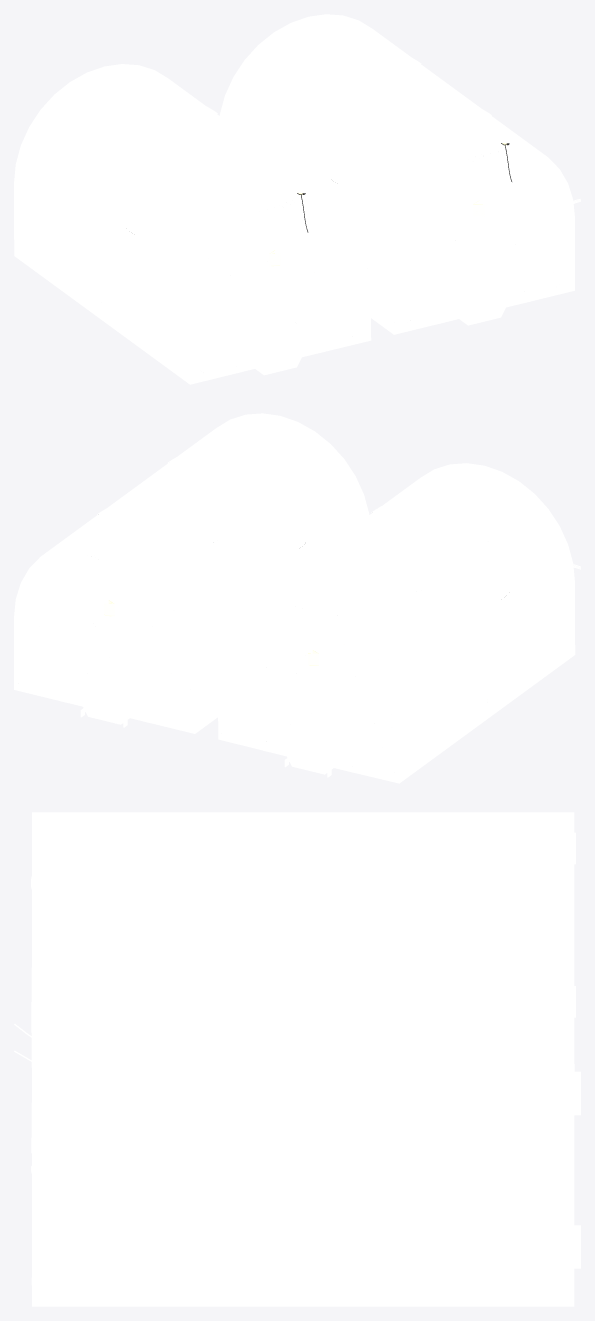
The model's file is Train_Tunnel_End_02.fbx.
3 renders of one model, top to bottom at view 1: azimuth 30°, elevation 25°; view 2: azimuth 150°, elevation 25°; view 3: azimuth 270°, elevation 25°, orthographic. The views are drawn at different scales.
Visible parts, largest first — view 1: Train_Tunnel_End_02; view 2: Train_Tunnel_End_02; view 3: Train_Tunnel_End_02.
Part boxes in pixels (x1,y1,x2,y2): Train_Tunnel_End_02: [14, 14, 580, 384]; Train_Tunnel_End_02: [14, 413, 580, 783]; Train_Tunnel_End_02: [14, 812, 580, 1306].
Size of the model in its own units: 1304 by 553 by 1045.
